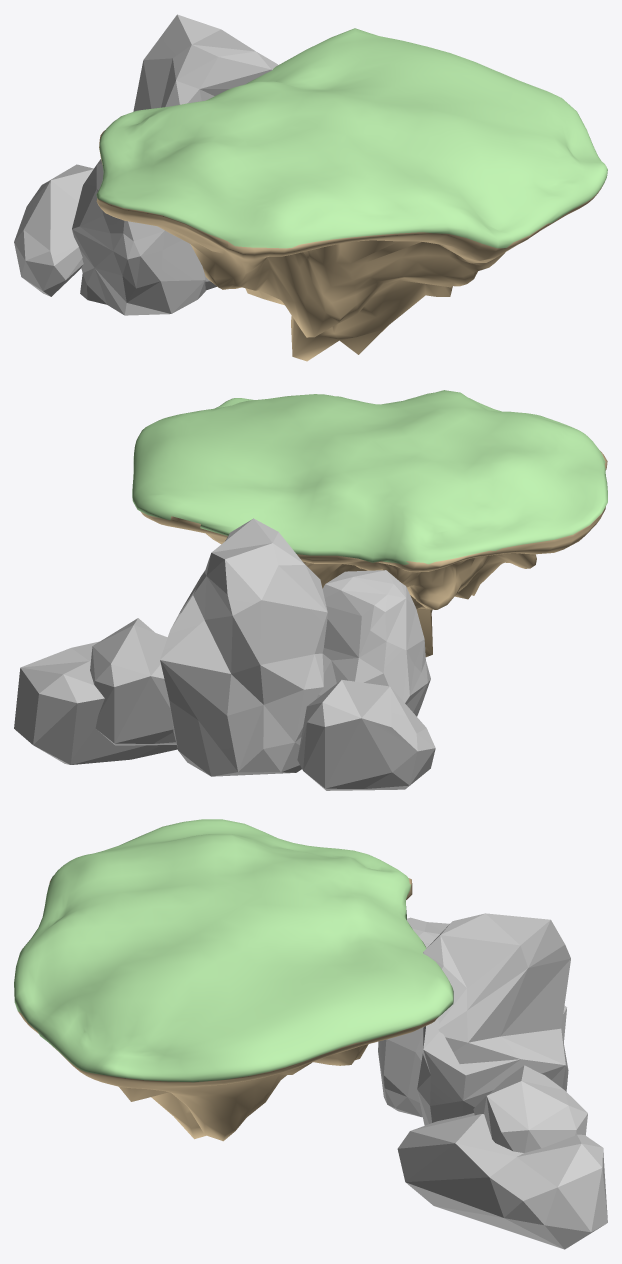
The model's file is land003.gltf.
3 renders of one model, top to bottom at view 1: azimuth 30°, elevation 25°; view 2: azimuth 150°, elevation 25°; view 3: azimuth 270°, elevation 25°, orthographic. The views are drawn at different scales.
Parts seen in each view (by area): view 1: node_land001_-39940, node_land001_-39942; view 2: node_land001_-39942, node_land001_-39940; view 3: node_land001_-39940, node_land001_-39942.
Boxes of the visible parts, x1,y1,x2,y2 form: node_land001_-39940: [96, 28, 607, 361]; node_land001_-39942: [14, 14, 278, 315]; node_land001_-39942: [14, 518, 435, 790]; node_land001_-39940: [132, 390, 607, 657]; node_land001_-39940: [14, 819, 453, 1141]; node_land001_-39942: [378, 913, 607, 1249].
Size of the model in its own units: 22.22 by 11.94 by 24.02.
